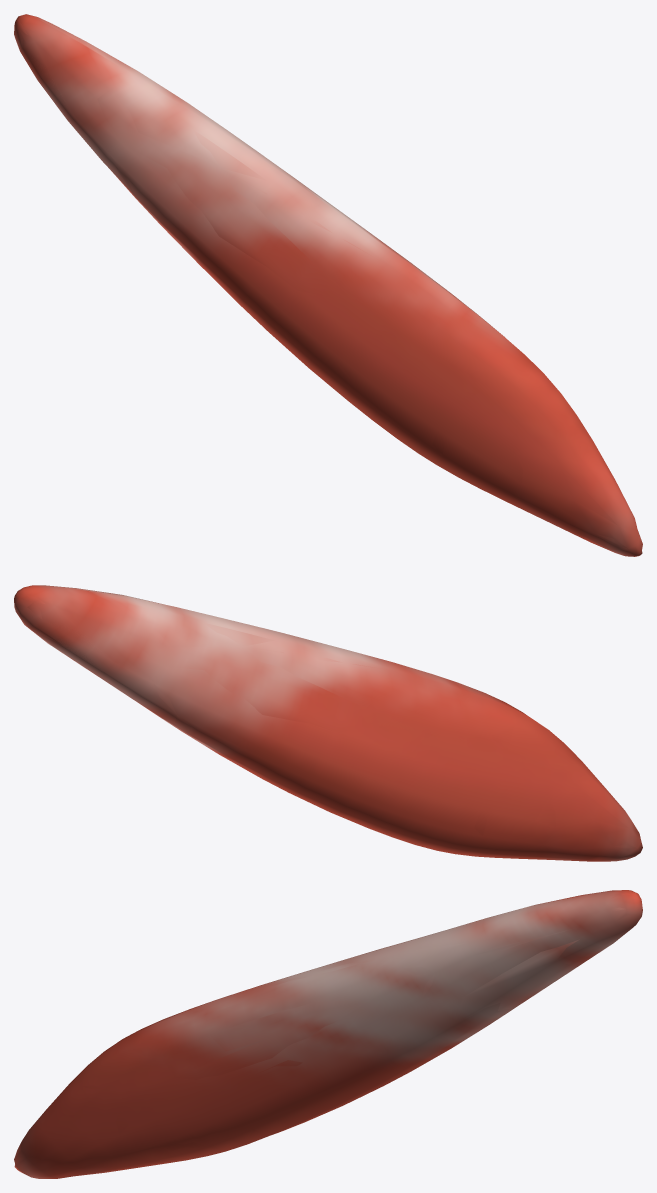
Rendered from R Quadriceps Femoris.fbx.
3 views of the same model, one above another, from view 1: azimuth 90°, elevation 25°; view 2: azimuth 150°, elevation 25°; view 3: azimuth 270°, elevation 25° (orthographic). The views are drawn at different scales.
Parts seen in each view (by area): view 1: R Quadriceps Femoris, R Quadriceps Femoris low; view 2: R Quadriceps Femoris, R Quadriceps Femoris low; view 3: R Quadriceps Femoris, R Quadriceps Femoris low.
Part boxes in pixels (x1,y1,x2,y2): R Quadriceps Femoris: [14, 14, 642, 556]; R Quadriceps Femoris low: [15, 14, 640, 553]; R Quadriceps Femoris: [14, 585, 642, 861]; R Quadriceps Femoris low: [15, 585, 640, 861]; R Quadriceps Femoris: [14, 890, 642, 1178]; R Quadriceps Femoris low: [15, 891, 641, 1177].
Size of the model in its own units: 6.27 by 8.6 by 11.9.
